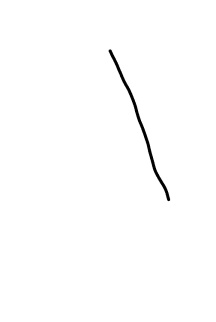Line: (106, 46, 173, 203)
